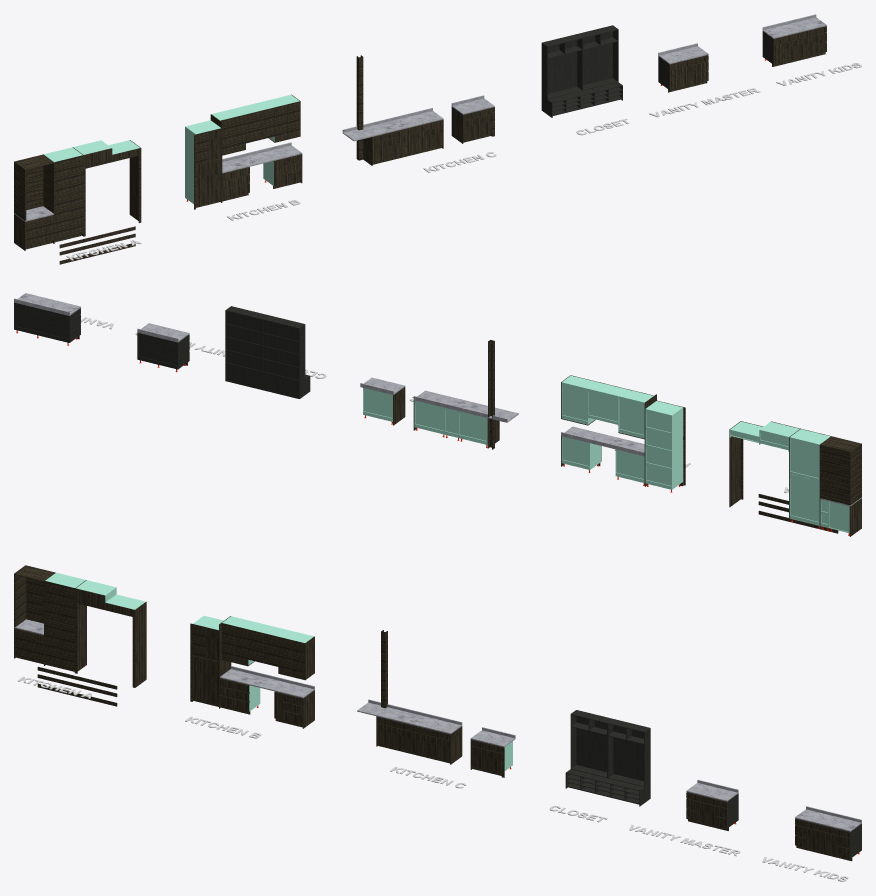
The model's file is daikitchen.glb.
The picture shows the model from 3 angles, top to bottom: view 1: azimuth 30°, elevation 25°; view 2: azimuth 150°, elevation 25°; view 3: azimuth 330°, elevation 25°; orthographic projection. The views are drawn at different scales.
Visible parts, largest first — view 1: G-DAR26_Hậu_CLOS.T2, G-DAR26_Hậu_CLOS.T2.001, G-Object.004, G-Đá.003, G-DAR26_Hông phải hoàn thiện_KITA.T7, G-DAR26_Hậu_KITA.T1, G-DAR26_Hông trái_KITB.T1, G-Đá.012, G-DAR26_Cánh phải_KITA.T4, G-DAR26_Cánh trái_KITA.T4, G-DAR26_Hông trái 02/2_KITA.T1, G-DAR26_Hông phải_KITA.T1 (+7 smaller); view 2: G-DAR26_Hậu_KITB.T1, G-DAR26_Hậu_CLOS.T2.001, G-DAR26_Hậu_CLOS.T2, G-DAR26_Hậu_KITA.T1, G-DAR26_Hậu_CLOS.T1, G-DAR26_Hậu_VAKID.T1, G-DAR26_Hậu_KITA.T4, G-DAR26_Hông trái_KITB.T1, G-DAR26_Hậu_KITA.T5, G-DAR26_Hậu_VAMAS.T1, G-DAR26_Hông phải hoàn thiện_KITA.T7, G-Object.004 (+12 smaller); view 3: G-DAR26_Hậu_CLOS.T2, G-DAR26_Hậu_CLOS.T2.001, G-Object.004, G-DAR26_Hông phải hoàn thiện_KITA.T7, G-Đá.003, G-DAR26_Hậu_KITA.T1, G-DAR26_Hông phải hoàn thiện_KITA.T4T5, G-Đá.012, G-DAR26_Cánh phải_KITA.T4, G-DAR26_Cánh trái_KITA.T4, G-DAR26_Hông trái 01/2_KITA.T1, G-DAR26_Cánh phải 02_KITB.T1 (+3 smaller).
Boxes of the visible parts, x1,y1,x2,y2 form: G-DAR26_Hậu_CLOS.T2: [548, 40, 577, 93]; G-DAR26_Hậu_CLOS.T2.001: [583, 31, 612, 84]; G-Object.004: [222, 145, 302, 173]; G-Đá.003: [363, 111, 443, 136]; G-DAR26_Hông phải hoàn thiện_KITA.T7: [129, 140, 141, 222]; G-DAR26_Hậu_KITA.T1: [17, 155, 43, 210]; G-DAR26_Hông trái_KITB.T1: [185, 126, 195, 203]; G-Đá.012: [762, 17, 826, 38]; G-DAR26_Cánh phải_KITA.T4: [69, 192, 83, 236]; G-DAR26_Cánh trái_KITA.T4: [54, 195, 68, 240]; G-DAR26_Hông trái 02/2_KITA.T1: [14, 161, 25, 220]; G-DAR26_Hông phải_KITA.T1: [43, 154, 54, 213]; G-DAR26_Hậu_KITB.T1: [646, 408, 671, 485]; G-DAR26_Hậu_CLOS.T2.001: [226, 314, 261, 370]; G-DAR26_Hậu_CLOS.T2: [263, 323, 298, 379]; G-DAR26_Hậu_KITA.T1: [820, 444, 849, 501]; G-DAR26_Hậu_CLOS.T1: [226, 366, 298, 398]; G-DAR26_Hậu_VAKID.T1: [15, 305, 68, 338]; G-DAR26_Hậu_KITA.T4: [790, 478, 818, 521]; G-DAR26_Hông trái_KITB.T1: [671, 407, 683, 489]; G-DAR26_Hậu_KITA.T5: [790, 437, 818, 477]; G-DAR26_Hậu_VAMAS.T1: [138, 335, 177, 365]; G-DAR26_Hông phải hoàn thiện_KITA.T7: [729, 421, 740, 507]; G-Object.004: [561, 426, 644, 456]; G-DAR26_Hậu_CLOS.T2: [576, 716, 606, 772]; G-DAR26_Hậu_CLOS.T2.001: [613, 725, 643, 781]; G-Object.004: [220, 669, 314, 698]; G-DAR26_Hông phải hoàn thiện_KITA.T7: [134, 601, 146, 687]; G-Đá.003: [376, 707, 462, 734]; G-DAR26_Hậu_KITA.T1: [26, 565, 53, 623]; G-DAR26_Hông phải hoàn thiện_KITA.T4T5: [74, 603, 86, 672]; G-Đá.012: [795, 809, 861, 831]; G-DAR26_Cánh phải_KITA.T4: [59, 623, 74, 669]; G-DAR26_Cánh trái_KITA.T4: [44, 619, 59, 665]; G-DAR26_Hông trái 01/2_KITA.T1: [14, 565, 26, 626]; G-DAR26_Cánh phải 02_KITB.T1: [205, 658, 218, 704].
Size of the model in its own units: 25.88 by 3.61 by 1.81.
Materials: 8 (4 with a texture image).
